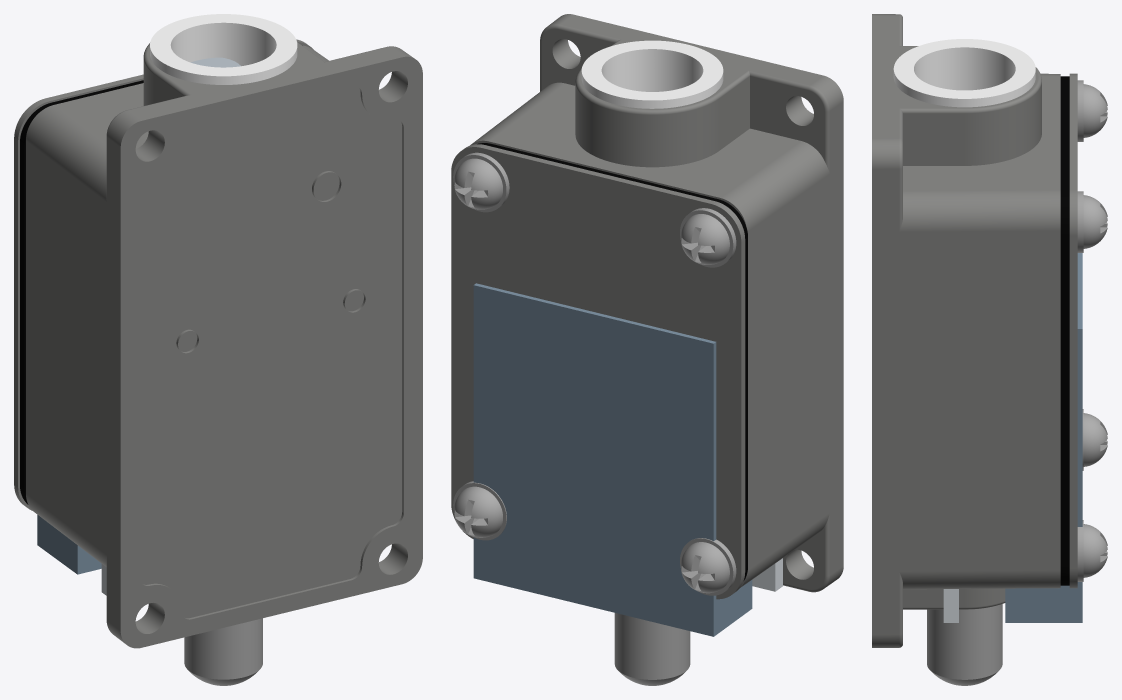
File: model-ecafdc2064e6.glb
3 renders of one model, left to right at view 1: azimuth 30°, elevation 25°; view 2: azimuth 150°, elevation 25°; view 3: azimuth 270°, elevation 25°, orthographic. The views are drawn at different scales.
Visible parts, largest first — view 1: factory_001, housing_000; view 2: factory_001, housing_000, housing_001; view 3: factory_001, housing_000, housing_001.
Part boxes in pixels (left/top/right/bottom): factory_001: left=14, top=14, right=422, bottom=685; housing_000: left=37, top=515, right=101, bottom=574; factory_001: left=451, top=14, right=843, bottom=685; housing_000: left=473, top=283, right=752, bottom=636; housing_001: left=752, top=558, right=782, bottom=591; factory_001: left=872, top=14, right=1107, bottom=685; housing_000: left=1005, top=253, right=1082, bottom=622; housing_001: left=943, top=589, right=958, bottom=622.
Size of the model in its own units: 0.0435 by 0.0875 by 0.0305.
